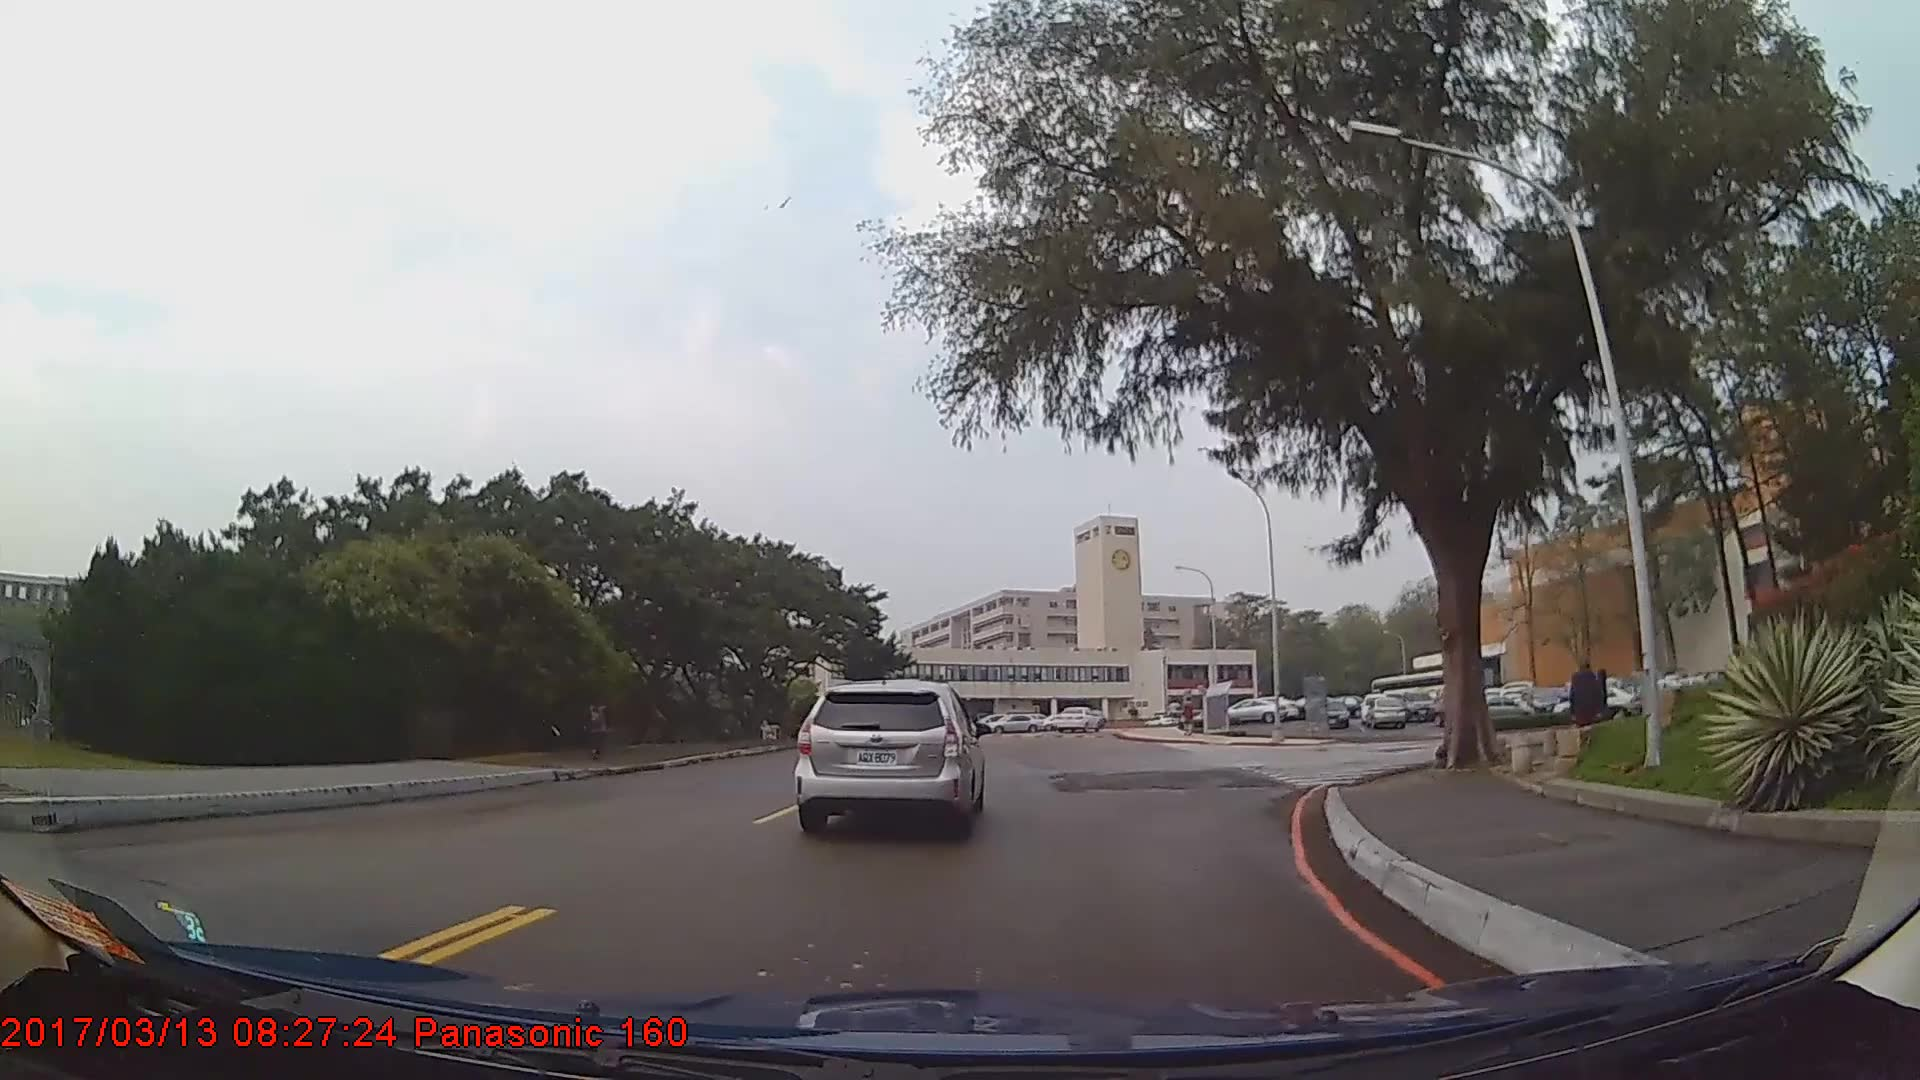pedestrian: (1568, 648, 1604, 764)
vehicle: (795, 675, 985, 837), (1460, 690, 1538, 723), (1217, 697, 1286, 722), (1365, 694, 1408, 730), (1056, 705, 1102, 734), (983, 715, 1041, 736), (1316, 699, 1352, 732), (1398, 686, 1435, 717)
